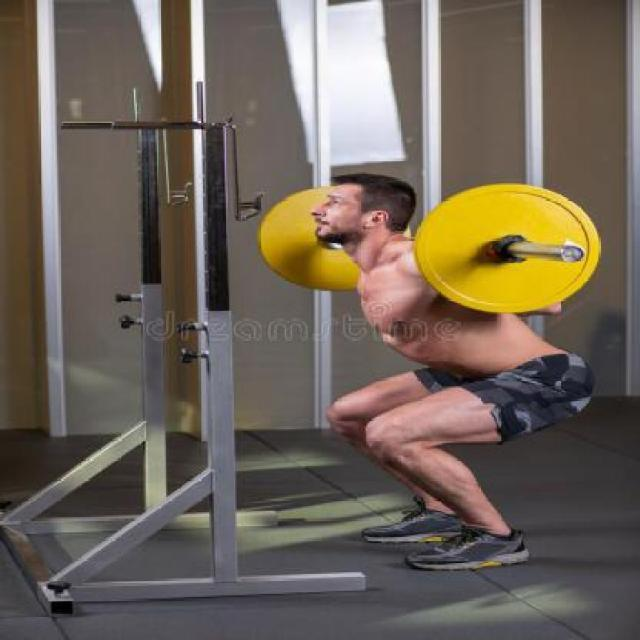Barbell: (546, 240, 588, 269)
